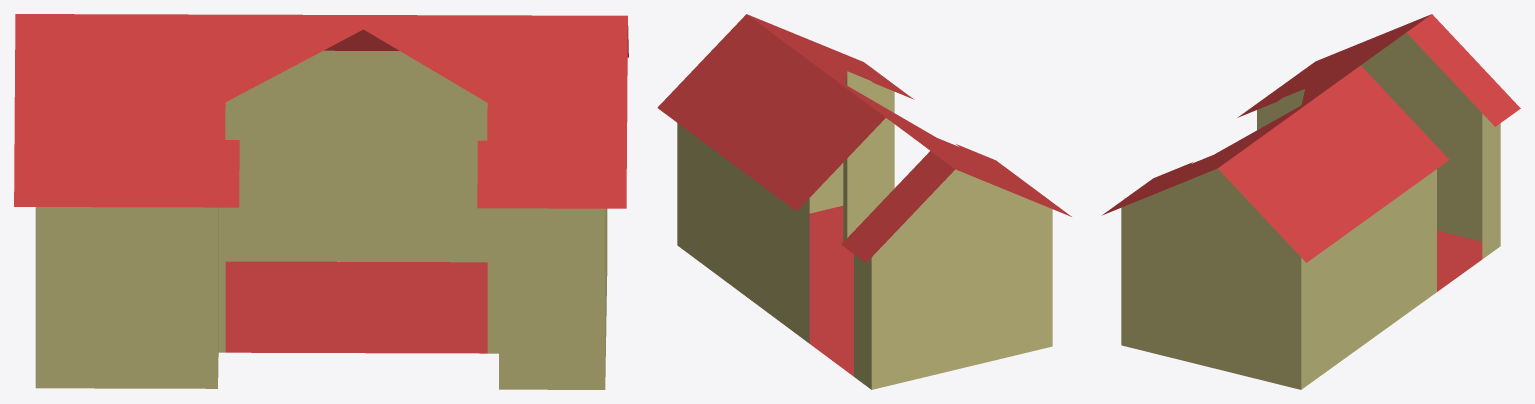
3 renders of one model, left to right at view 1: azimuth 30°, elevation 25°; view 2: azimuth 150°, elevation 25°; view 3: azimuth 270°, elevation 25°, orthographic. The views are drawn at different scales.
Parts seen in each view (by area): view 1: group_5, group_3, group_6, group_4; view 2: group_5, group_3, group_6, group_4; view 3: group_5, group_3, group_6, group_4.
Part boxes in pixels (x1,y1,x2,y2): group_5: (35, 50, 607, 389); group_3: (14, 14, 628, 208); group_6: (225, 261, 487, 353); group_4: (14, 27, 628, 207); group_5: (677, 71, 1052, 389); group_3: (657, 14, 1071, 262); group_6: (809, 205, 853, 376); group_4: (658, 29, 1067, 262); group_5: (1121, 32, 1500, 389); group_3: (1102, 14, 1520, 262); group_6: (1437, 230, 1482, 291); group_4: (1138, 23, 1519, 261).
Bounding box in the file's own units: 24.61 × 21.26 × 11.63.
